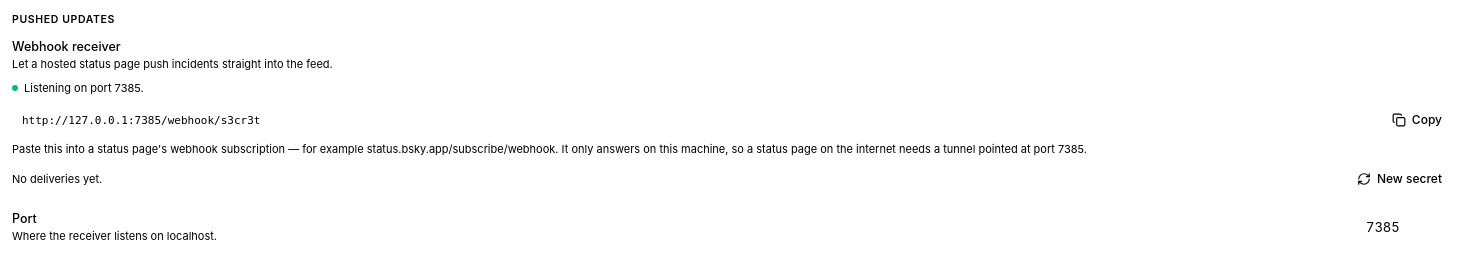
Test case: the endpoint › says why a copy failed, rather than that it was copied
Click the button "Copy" at (1417, 120), box [1382,106,1452,134]
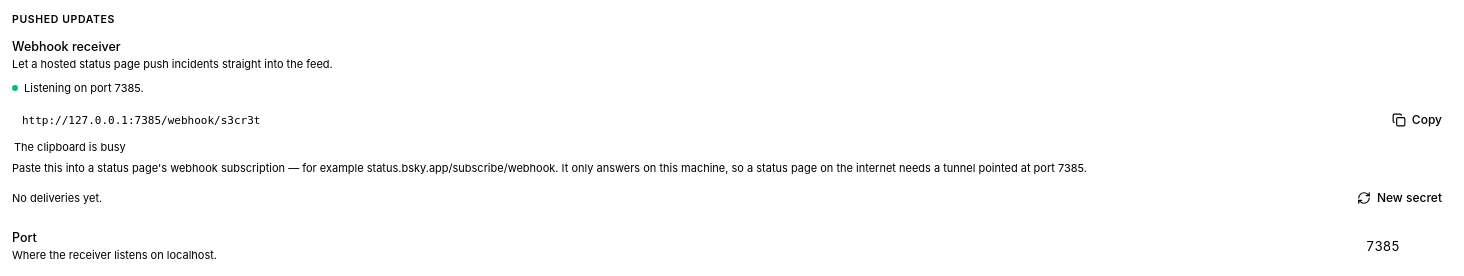
Expected: the message "The clipboard is busy" is shown, [14,140,126,154]
